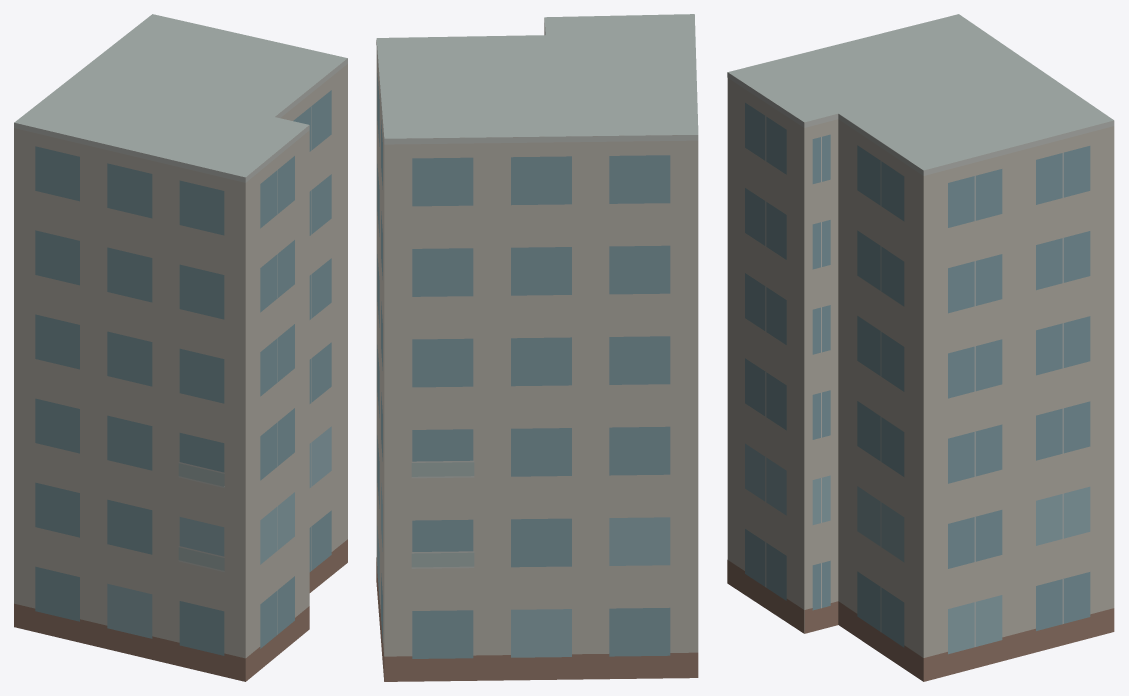
File: survey-upis-32848226.glb
The picture shows the model from 3 angles, left to right: view 1: azimuth 30°, elevation 25°; view 2: azimuth 150°, elevation 25°; view 3: azimuth 270°, elevation 25°; orthographic projection. The views are drawn at different scales.
Parts seen in each view (by area): view 1: survey-upis-32848226.tmp; view 2: survey-upis-32848226.tmp; view 3: survey-upis-32848226.tmp.
Part boxes in pixels (x1,y1,x2,y2): survey-upis-32848226.tmp: [14, 14, 347, 681]; survey-upis-32848226.tmp: [376, 14, 698, 681]; survey-upis-32848226.tmp: [727, 14, 1114, 681].
Bounding box in the file's own units: 14.82 × 22.56 × 15.47.
